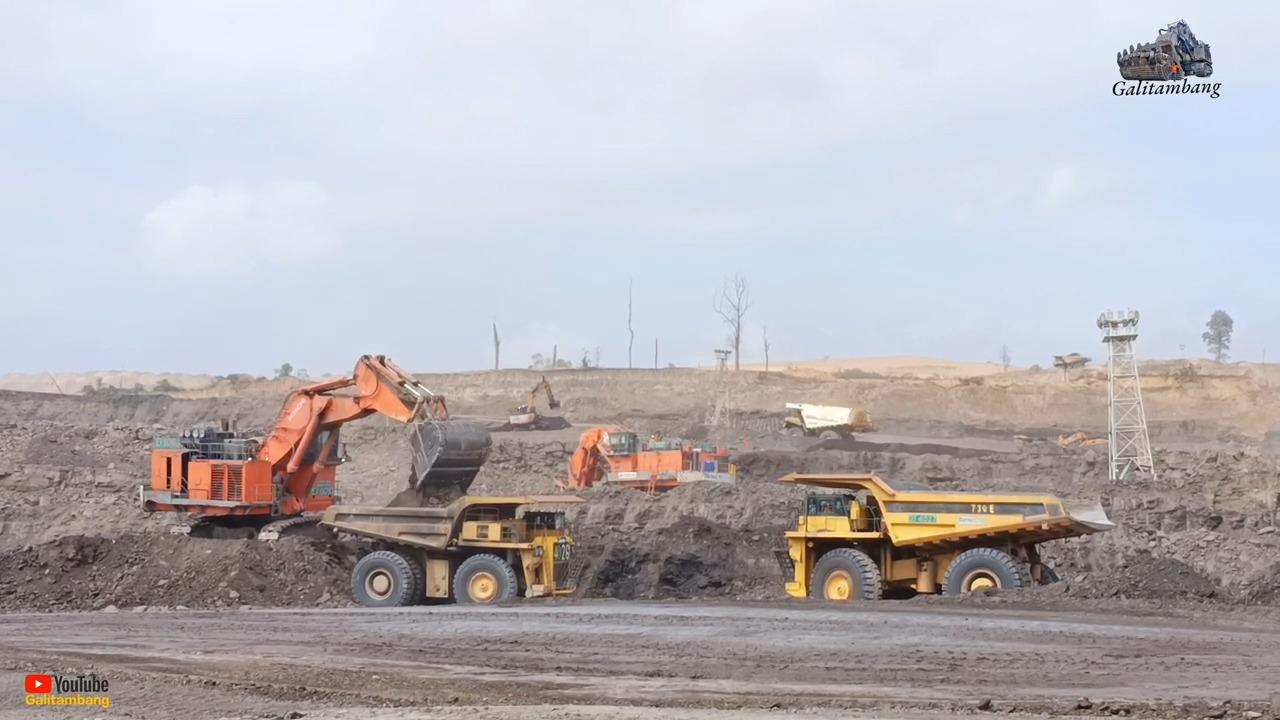Excavator: (139, 355, 490, 539), (557, 426, 736, 494)
HD-Truck: (775, 473, 1114, 601), (320, 496, 581, 606)
